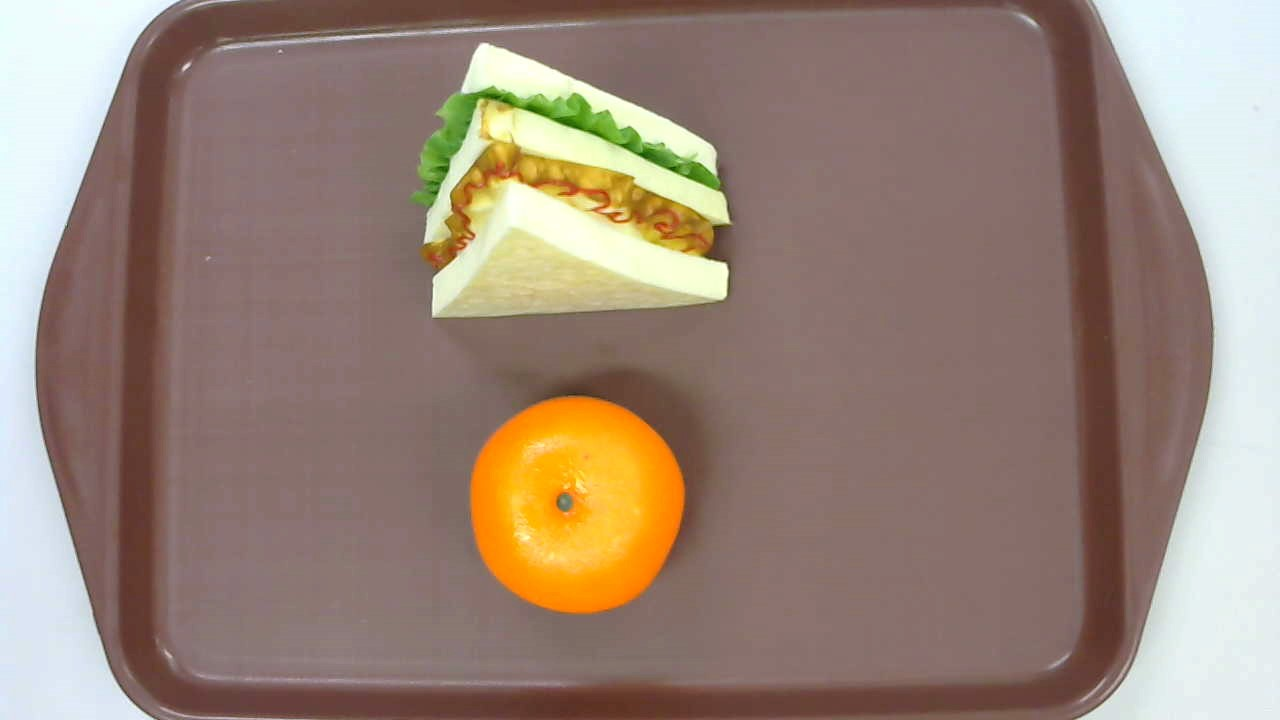orange: (468, 393, 687, 613)
sandwich: (410, 42, 735, 319)
